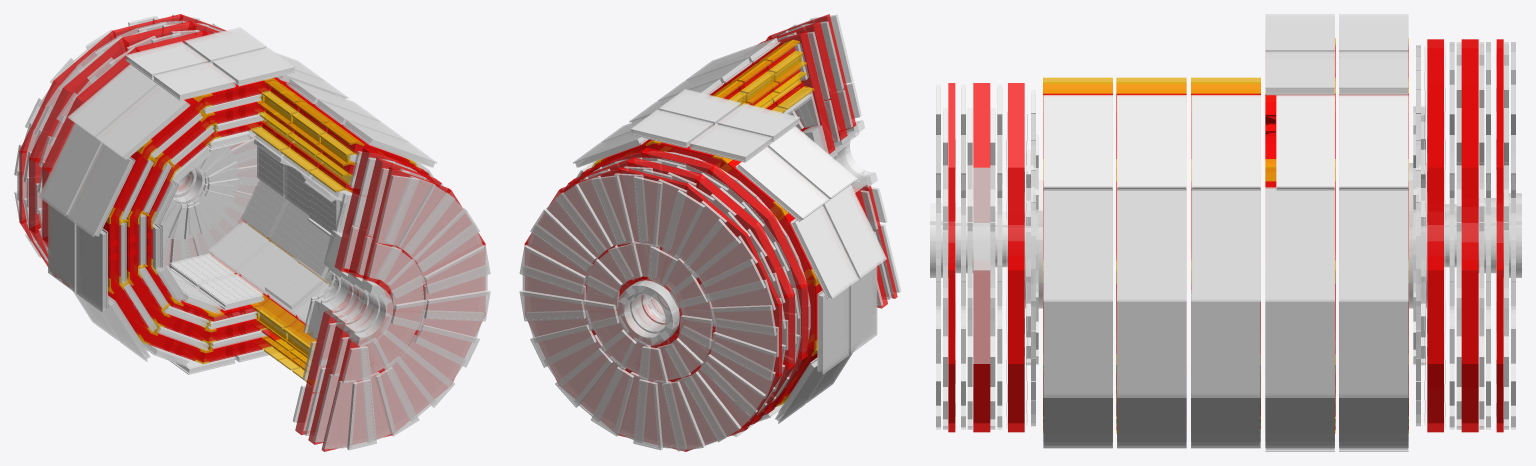
File: muon-1.glb
3 renders of one model, left to right at view 1: azimuth 30°, elevation 25°; view 2: azimuth 150°, elevation 25°; view 3: azimuth 270°, elevation 25°, orthographic. The views are drawn at different scales.
Parts seen in each view (by area): view 1: Mesh3535 muonYoke_YE3_b_materials_AISI_1018_Steel14 lp_muonY, Mesh3537 muonYoke_YE3_b_materials_AISI_1018_Steel15 lp_muonY, Mesh2129 mb4_MB4BigSuperLayerPhi_materials_Air19 lp_mb4_MB4B, Mesh956 mb4_MB4BigSuperLayerPhi_materials_Air9 lp_mb4_MB4Big, Mesh2126 mb4_MB4BigHoneycombBox_materials_Air8 lp_mb4_MB4Big, Mesh2130 mb4_MB4BigHoneycombBox_materials_Air9 lp_mb4_MB4Big, Mesh2125 mb4_MB4BigSuperLayerPhi_materials_Air17 lp_mb4_MB4B, Mesh952 mb4_MB4BigSuperLayerPhi_materials_Air7 lp_mb4_MB4Big, Mesh953 mb4_MB4BigHoneycombBox_materials_Air3 lp_mb4_MB4BigH, Mesh957 mb4_MB4BigHoneycombBox_materials_Air4 lp_mb4_MB4BigH, Mesh3534 muonYoke_YE3_b_materials_AISI_1018_Steel13 lp_muonY, Mesh3532 muonYoke_YE3_b_materials_AISI_1018_Steel12 lp_muonY (+89 smaller); view 2: Mesh458 muonYoke_YE3_b_materials_AISI_1018_Steel1 lp_muonYok, Mesh459 muonYoke_YE3_b_materials_AISI_1018_Steel2 lp_muonYok, Mesh956 mb4_MB4BigSuperLayerPhi_materials_Air9 lp_mb4_MB4Big, Mesh457 muonYoke_YE3_b_materials_AISI_1018_Steel lp_muonYoke, Mesh2129 mb4_MB4BigSuperLayerPhi_materials_Air19 lp_mb4_MB4B, Mesh957 mb4_MB4BigHoneycombBox_materials_Air4 lp_mb4_MB4BigH, Mesh953 mb4_MB4BigHoneycombBox_materials_Air3 lp_mb4_MB4BigH, Mesh952 mb4_MB4BigSuperLayerPhi_materials_Air7 lp_mb4_MB4Big, Mesh2125 mb4_MB4BigSuperLayerPhi_materials_Air17 lp_mb4_MB4B, Mesh2126 mb4_MB4BigHoneycombBox_materials_Air8 lp_mb4_MB4Big, Mesh2130 mb4_MB4BigHoneycombBox_materials_Air9 lp_mb4_MB4Big, Mesh460 muonYoke_YE3_b_materials_AISI_1018_Steel3 lp_muonYok (+115 smaller); view 3: Mesh1546 mb4_MB4BigSuperLayerPhi_materials_Air15 lp_mb4_MB4B, Mesh648 mb4_MB4BigSuperLayerPhi_materials_Air3 lp_mb4_MB4Big, Mesh2290 mb4_MB4BigSuperLayerPhi_materials_Air23 lp_mb4_MB4B, Mesh2755 mb4_MB4BigSuperLayerPhi_materials_Air31 lp_mb4_MB4B, Mesh3141 mb4_MB4BigSuperLayerPhi_materials_Air35 lp_mb4_MB4B, Mesh1547 mb4_MB4BigHoneycombBox_materials_Air7 lp_mb4_MB4Big, Mesh649 mb4_MB4BigHoneycombBox_materials_Air1 lp_mb4_MB4BigH, Mesh2756 mb4_MB4BigHoneycombBox_materials_Air15 lp_mb4_MB4Bi, Mesh3142 mb4_MB4BigHoneycombBox_materials_Air17 lp_mb4_MB4Bi, Mesh2291 mb4_MB4BigHoneycombBox_materials_Air11 lp_mb4_MB4Bi, Mesh2312 mb4_MB4BigSuperLayerPhi_materials_Air25 lp_mb4_MB4B, Mesh644 mb4_MB4BigSuperLayerPhi_materials_Air1 lp_mb4_MB4Big (+73 smaller).
Boxes of the visible parts, x1,y1,x2,y2 form: Mesh3535 muonYoke_YE3_b_materials_AISI_1018_Steel14 lp_muonY: (321, 338, 391, 451); Mesh3537 muonYoke_YE3_b_materials_AISI_1018_Steel15 lp_muonY: (363, 167, 451, 284); Mesh2129 mb4_MB4BigSuperLayerPhi_materials_Air19 lp_mb4_MB4B: (66, 143, 130, 236); Mesh956 mb4_MB4BigSuperLayerPhi_materials_Air9 lp_mb4_MB4Big: (38, 123, 101, 216); Mesh2126 mb4_MB4BigHoneycombBox_materials_Air8 lp_mb4_MB4Big: (98, 86, 188, 158); Mesh2130 mb4_MB4BigHoneycombBox_materials_Air9 lp_mb4_MB4Big: (69, 145, 133, 235); Mesh2125 mb4_MB4BigSuperLayerPhi_materials_Air17 lp_mb4_MB4B: (95, 85, 186, 157); Mesh952 mb4_MB4BigSuperLayerPhi_materials_Air7 lp_mb4_MB4Big: (67, 64, 156, 136); Mesh953 mb4_MB4BigHoneycombBox_materials_Air3 lp_mb4_MB4BigH: (70, 65, 158, 137); Mesh957 mb4_MB4BigHoneycombBox_materials_Air4 lp_mb4_MB4BigH: (41, 124, 102, 214); Mesh3534 muonYoke_YE3_b_materials_AISI_1018_Steel13 lp_muonY: (366, 328, 450, 434); Mesh3532 muonYoke_YE3_b_materials_AISI_1018_Steel12 lp_muonY: (380, 311, 484, 384); Mesh458 muonYoke_YE3_b_materials_AISI_1018_Steel1 lp_muonYok: (672, 234, 781, 309); Mesh459 muonYoke_YE3_b_materials_AISI_1018_Steel2 lp_muonYok: (660, 183, 747, 293); Mesh956 mb4_MB4BigSuperLayerPhi_materials_Air9 lp_mb4_MB4Big: (794, 205, 858, 298); Mesh457 muonYoke_YE3_b_materials_AISI_1018_Steel lp_muonYoke: (679, 304, 781, 376); Mesh2129 mb4_MB4BigSuperLayerPhi_materials_Air19 lp_mb4_MB4B: (824, 185, 886, 278); Mesh957 mb4_MB4BigHoneycombBox_materials_Air4 lp_mb4_MB4BigH: (792, 207, 855, 297); Mesh953 mb4_MB4BigHoneycombBox_materials_Air3 lp_mb4_MB4BigH: (737, 148, 826, 220); Mesh952 mb4_MB4BigSuperLayerPhi_materials_Air7 lp_mb4_MB4Big: (738, 146, 829, 219); Mesh2125 mb4_MB4BigSuperLayerPhi_materials_Air17 lp_mb4_MB4B: (769, 126, 857, 198); Mesh2126 mb4_MB4BigHoneycombBox_materials_Air8 lp_mb4_MB4Big: (767, 127, 854, 199); Mesh2130 mb4_MB4BigHoneycombBox_materials_Air9 lp_mb4_MB4Big: (822, 186, 884, 276); Mesh460 muonYoke_YE3_b_materials_AISI_1018_Steel3 lp_muonYok: (618, 167, 687, 283); Mesh1546 mb4_MB4BigSuperLayerPhi_materials_Air15 lp_mb4_MB4B: (1265, 189, 1334, 301); Mesh648 mb4_MB4BigSuperLayerPhi_materials_Air3 lp_mb4_MB4Big: (1339, 190, 1408, 301); Mesh2290 mb4_MB4BigSuperLayerPhi_materials_Air23 lp_mb4_MB4B: (1191, 190, 1260, 301); Mesh2755 mb4_MB4BigSuperLayerPhi_materials_Air31 lp_mb4_MB4B: (1117, 190, 1186, 301); Mesh3141 mb4_MB4BigSuperLayerPhi_materials_Air35 lp_mb4_MB4B: (1043, 190, 1112, 301); Mesh1547 mb4_MB4BigHoneycombBox_materials_Air7 lp_mb4_MB4Big: (1266, 190, 1333, 298); Mesh649 mb4_MB4BigHoneycombBox_materials_Air1 lp_mb4_MB4BigH: (1340, 191, 1407, 298); Mesh2756 mb4_MB4BigHoneycombBox_materials_Air15 lp_mb4_MB4Bi: (1118, 191, 1185, 298); Mesh3142 mb4_MB4BigHoneycombBox_materials_Air17 lp_mb4_MB4Bi: (1044, 191, 1111, 298); Mesh2291 mb4_MB4BigHoneycombBox_materials_Air11 lp_mb4_MB4Bi: (1193, 191, 1259, 298); Mesh2312 mb4_MB4BigSuperLayerPhi_materials_Air25 lp_mb4_MB4B: (1191, 295, 1260, 397); Mesh644 mb4_MB4BigSuperLayerPhi_materials_Air1 lp_mb4_MB4Big: (1339, 300, 1408, 397).
Bounding box in the file's own units: 15.79 × 14.73 × 21.36.
